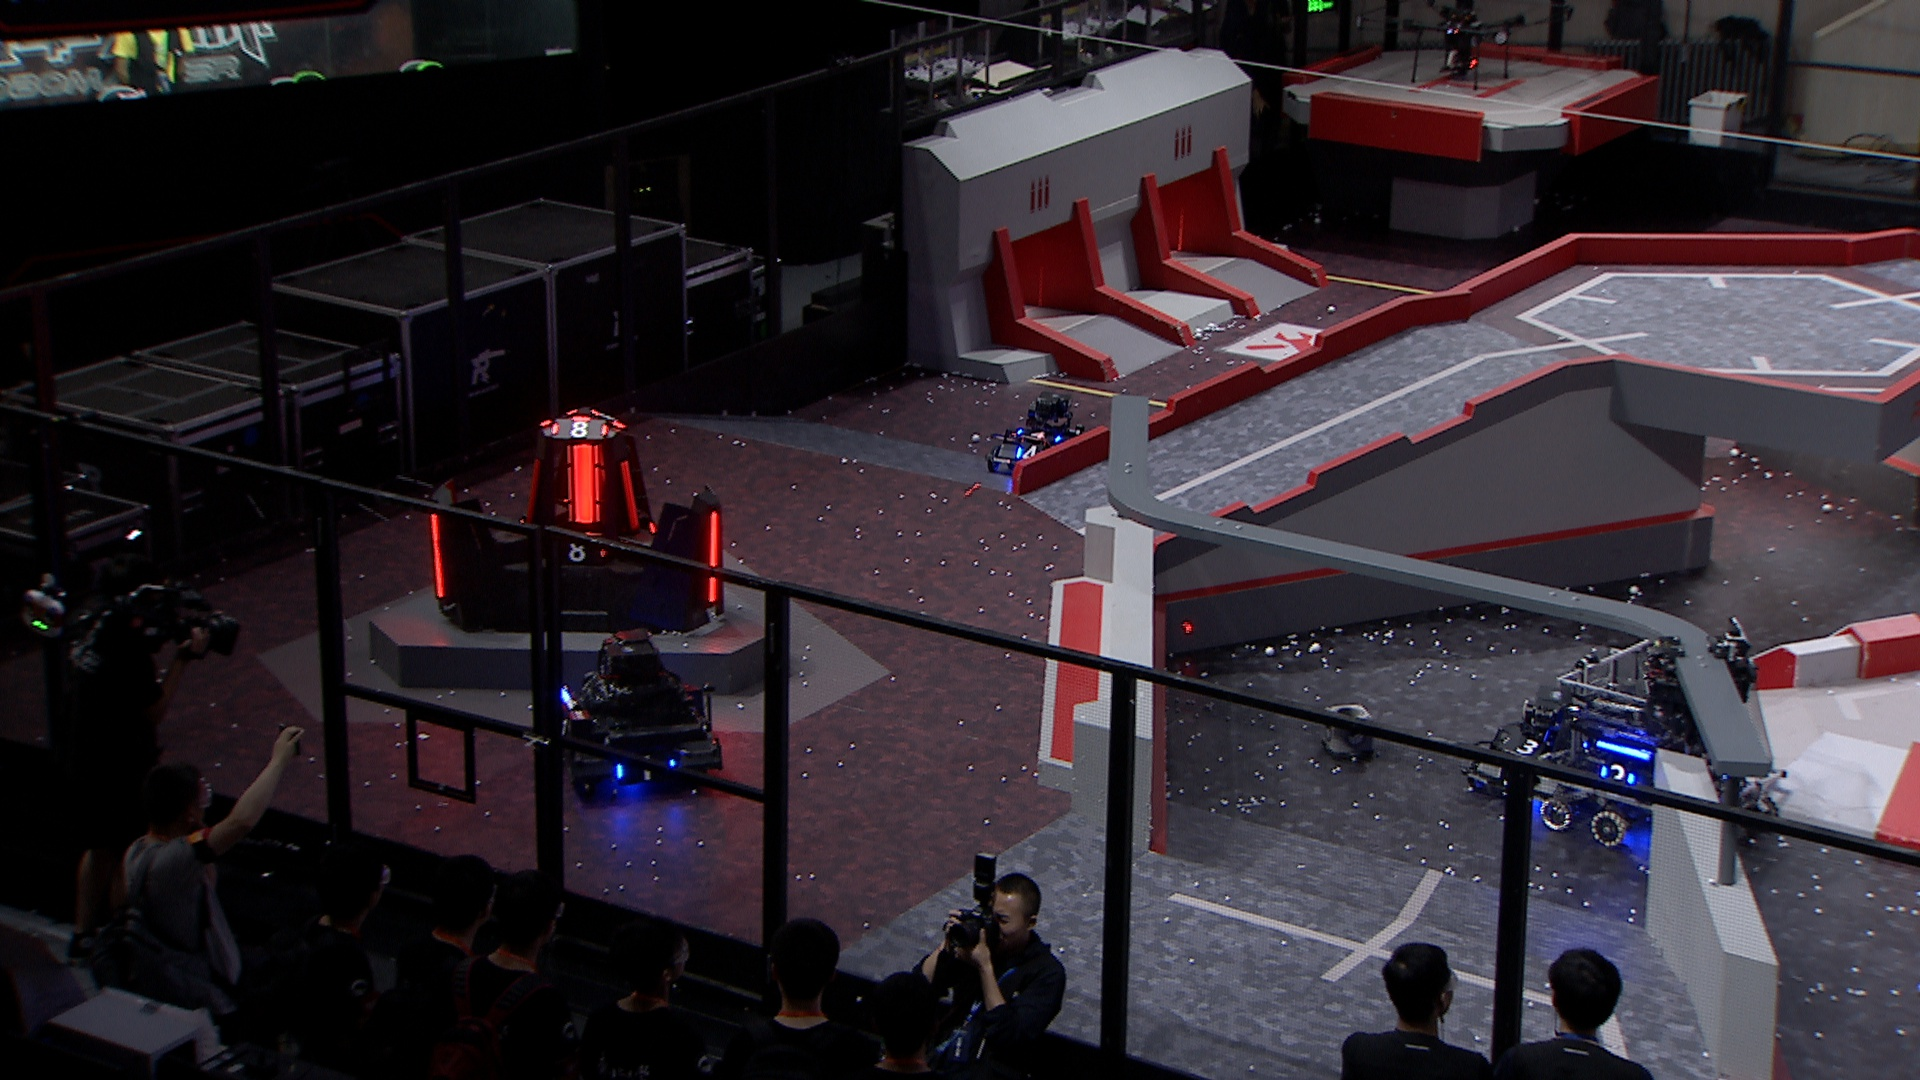armor: (564, 443, 604, 524), (612, 749, 680, 785), (702, 506, 724, 607), (425, 509, 448, 603), (547, 531, 609, 564), (617, 458, 641, 527), (550, 417, 615, 442), (522, 456, 547, 520), (1501, 731, 1552, 761), (1596, 764, 1638, 793), (1015, 423, 1063, 446), (551, 713, 583, 746), (1013, 446, 1046, 467)
base: (422, 404, 731, 633)
car: (1531, 632, 1785, 849), (543, 621, 723, 803), (1468, 680, 1600, 803), (986, 389, 1100, 480)
watcher: (1636, 612, 1756, 741)
